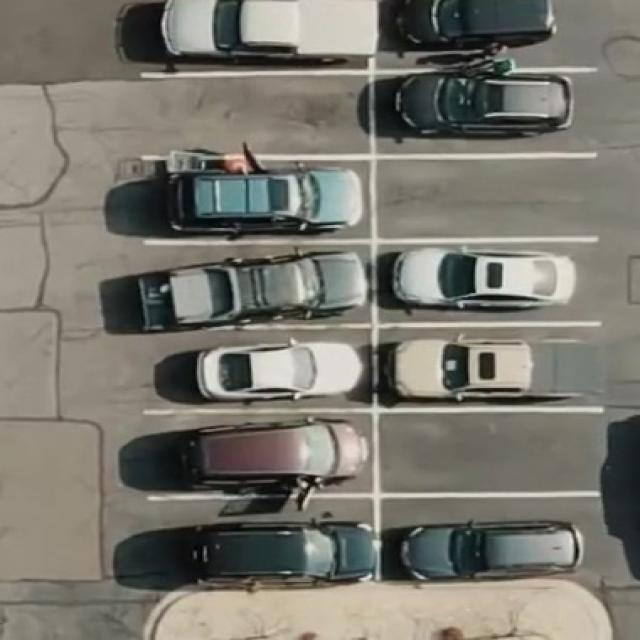space-empty: (133, 65, 369, 157), (372, 408, 600, 497), (371, 152, 596, 242)
space-occupied: (121, 494, 378, 593), (123, 234, 372, 328), (133, 408, 377, 497), (136, 153, 372, 242), (372, 64, 593, 157), (145, 322, 374, 411), (376, 320, 606, 408), (378, 493, 602, 582), (374, 236, 598, 323), (128, 0, 377, 72), (379, 0, 574, 65)
